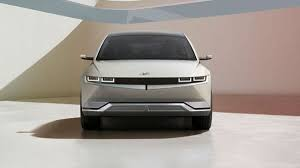Honda Ioniq: (73, 16, 219, 151)
